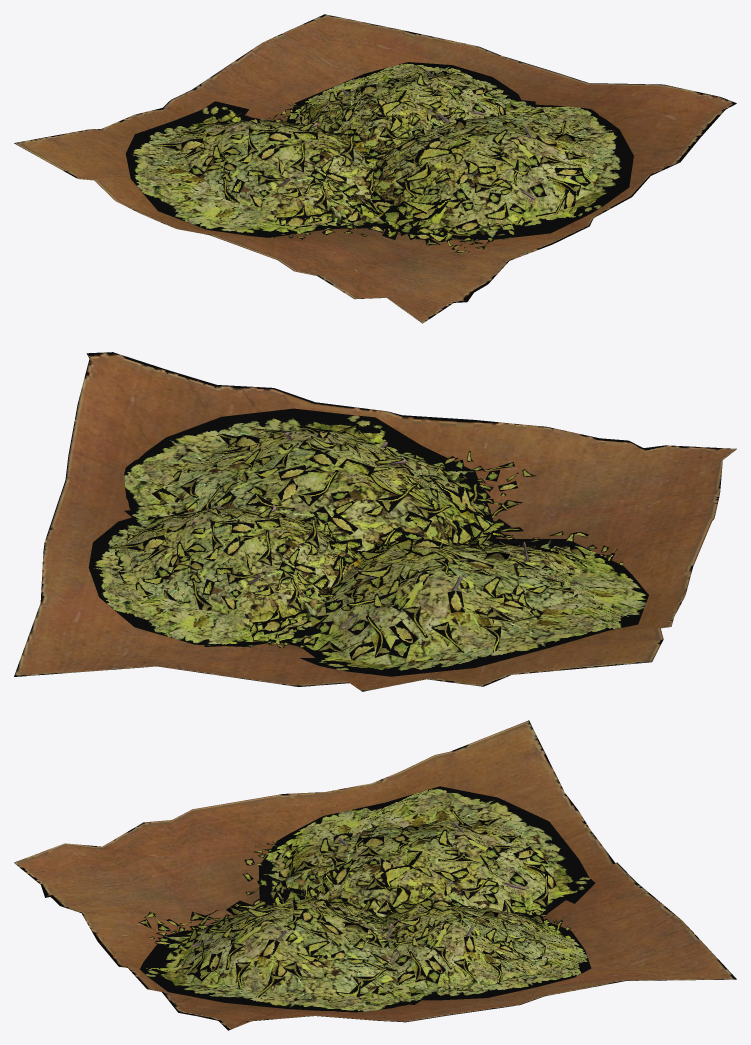
Rendered from 008_herbsggg01a.fbx.
3 renders of one model, top to bottom at view 1: azimuth 30°, elevation 25°; view 2: azimuth 150°, elevation 25°; view 3: azimuth 270°, elevation 25°, orthographic. The views are drawn at different scales.
Parts seen in each view (by area): view 1: LOD_1_Group_0_Sub_1__sm70_004_HerbsGG01A_Mat__Env_AlphaTest1, LOD_1_Group_2_Sub_1__sm70_004_HerbsGG01A_Mat__Env_AlphaTest1, LOD_1_Group_1_Sub_1__sm70_004_HerbsGG01A_Mat__Env_AlphaTest1, LOD_1_Group_7_Sub_1__sm70_004_HerbsGG01A_Mat__Env_AlphaTest1; view 2: LOD_1_Group_0_Sub_1__sm70_004_HerbsGG01A_Mat__Env_AlphaTest1, LOD_1_Group_2_Sub_1__sm70_004_HerbsGG01A_Mat__Env_AlphaTest1, LOD_1_Group_1_Sub_1__sm70_004_HerbsGG01A_Mat__Env_AlphaTest1, LOD_1_Group_7_Sub_1__sm70_004_HerbsGG01A_Mat__Env_AlphaTest1; view 3: LOD_1_Group_0_Sub_1__sm70_004_HerbsGG01A_Mat__Env_AlphaTest1, LOD_1_Group_1_Sub_1__sm70_004_HerbsGG01A_Mat__Env_AlphaTest1, LOD_1_Group_2_Sub_1__sm70_004_HerbsGG01A_Mat__Env_AlphaTest1, LOD_1_Group_7_Sub_1__sm70_004_HerbsGG01A_Mat__Env_AlphaTest1.
Boxes of the visible parts, bbox=[...] form: LOD_1_Group_0_Sub_1__sm70_004_HerbsGG01A_Mat__Env_AlphaTest1: bbox=[14, 14, 736, 323]; LOD_1_Group_2_Sub_1__sm70_004_HerbsGG01A_Mat__Env_AlphaTest1: bbox=[329, 97, 633, 252]; LOD_1_Group_1_Sub_1__sm70_004_HerbsGG01A_Mat__Env_AlphaTest1: bbox=[125, 101, 400, 239]; LOD_1_Group_7_Sub_1__sm70_004_HerbsGG01A_Mat__Env_AlphaTest1: bbox=[274, 62, 520, 159]; LOD_1_Group_0_Sub_1__sm70_004_HerbsGG01A_Mat__Env_AlphaTest1: bbox=[14, 352, 736, 691]; LOD_1_Group_2_Sub_1__sm70_004_HerbsGG01A_Mat__Env_AlphaTest1: bbox=[124, 408, 535, 551]; LOD_1_Group_1_Sub_1__sm70_004_HerbsGG01A_Mat__Env_AlphaTest1: bbox=[281, 531, 648, 676]; LOD_1_Group_7_Sub_1__sm70_004_HerbsGG01A_Mat__Env_AlphaTest1: bbox=[88, 498, 400, 647]; LOD_1_Group_0_Sub_1__sm70_004_HerbsGG01A_Mat__Env_AlphaTest1: bbox=[14, 720, 736, 1030]; LOD_1_Group_1_Sub_1__sm70_004_HerbsGG01A_Mat__Env_AlphaTest1: bbox=[243, 786, 595, 918]; LOD_1_Group_2_Sub_1__sm70_004_HerbsGG01A_Mat__Env_AlphaTest1: bbox=[138, 869, 441, 1012]; LOD_1_Group_7_Sub_1__sm70_004_HerbsGG01A_Mat__Env_AlphaTest1: bbox=[364, 880, 591, 1000].
Size of the model in its own units: 0.2906 by 0.0321 by 0.2875.
